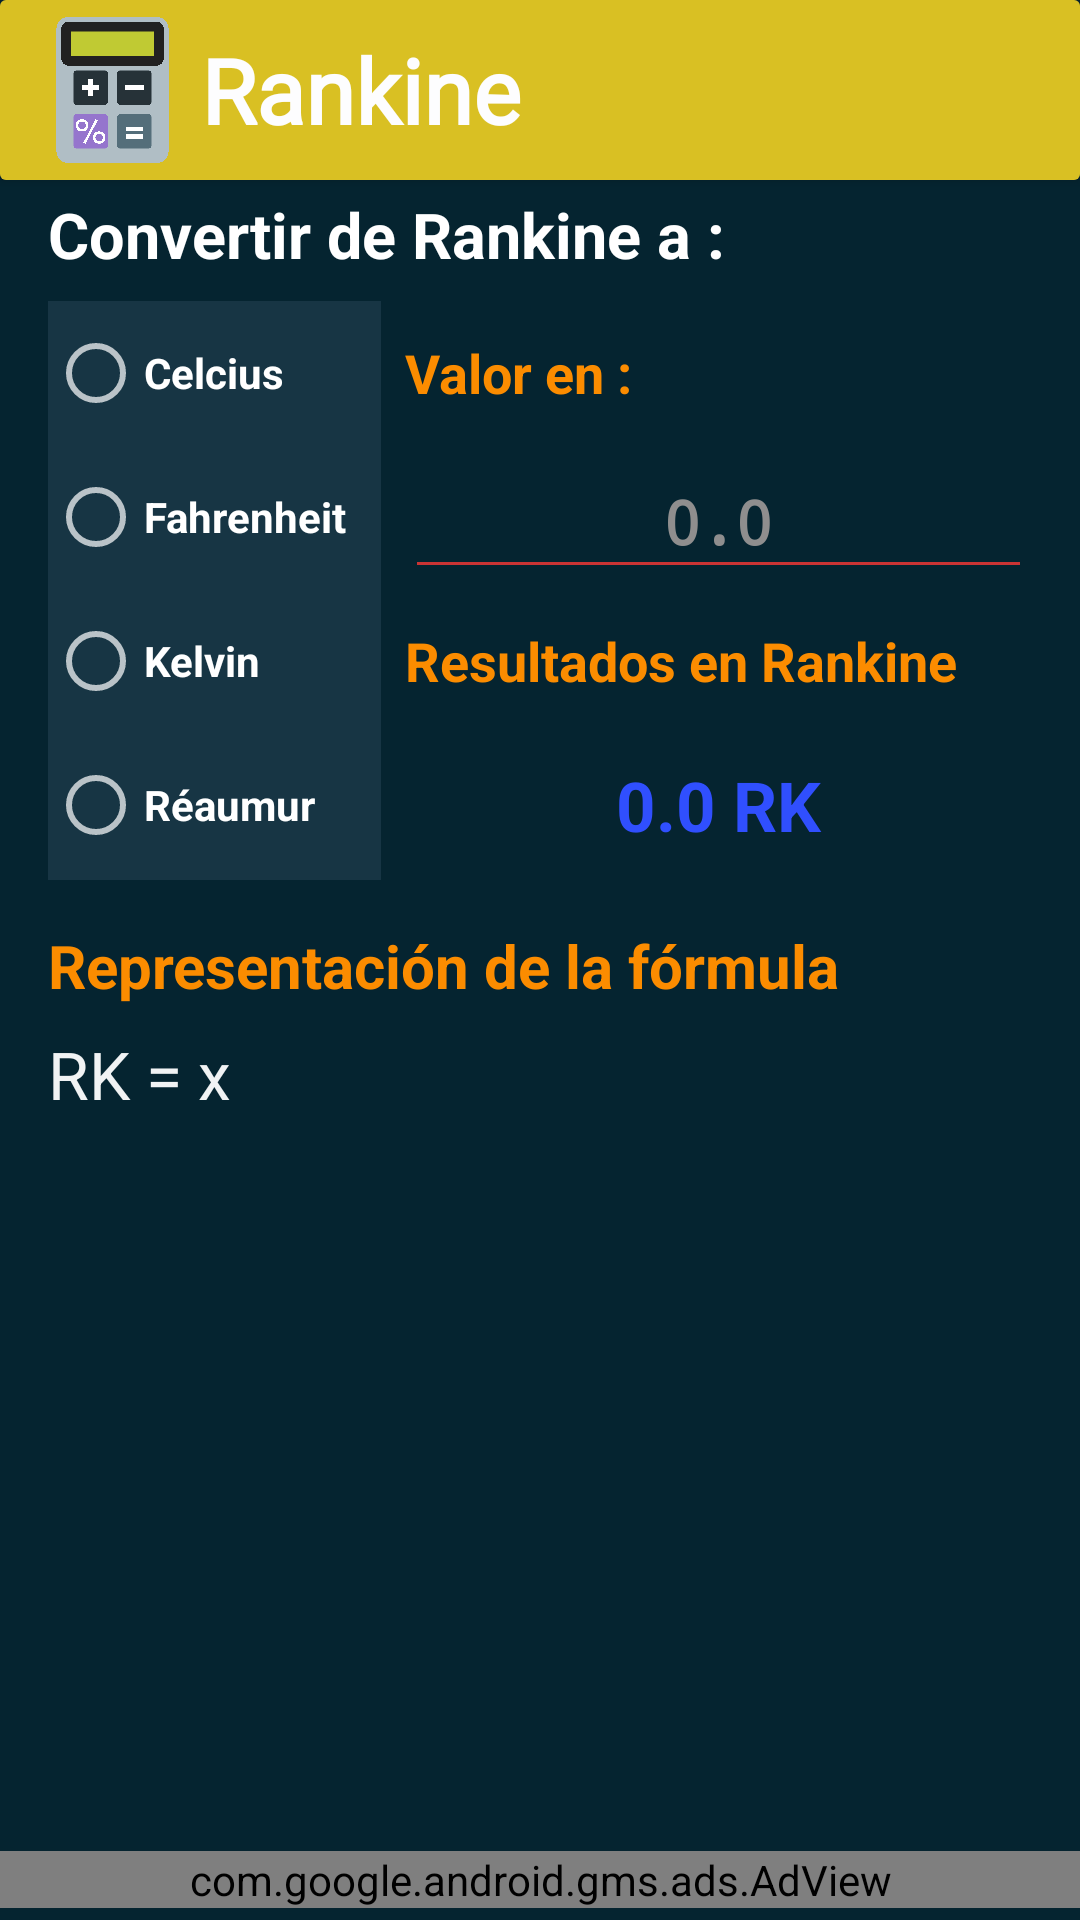

Point at icon controls on the screen. Image size 1080w x 1920h, points as (x,y).
calc: (112,90)
